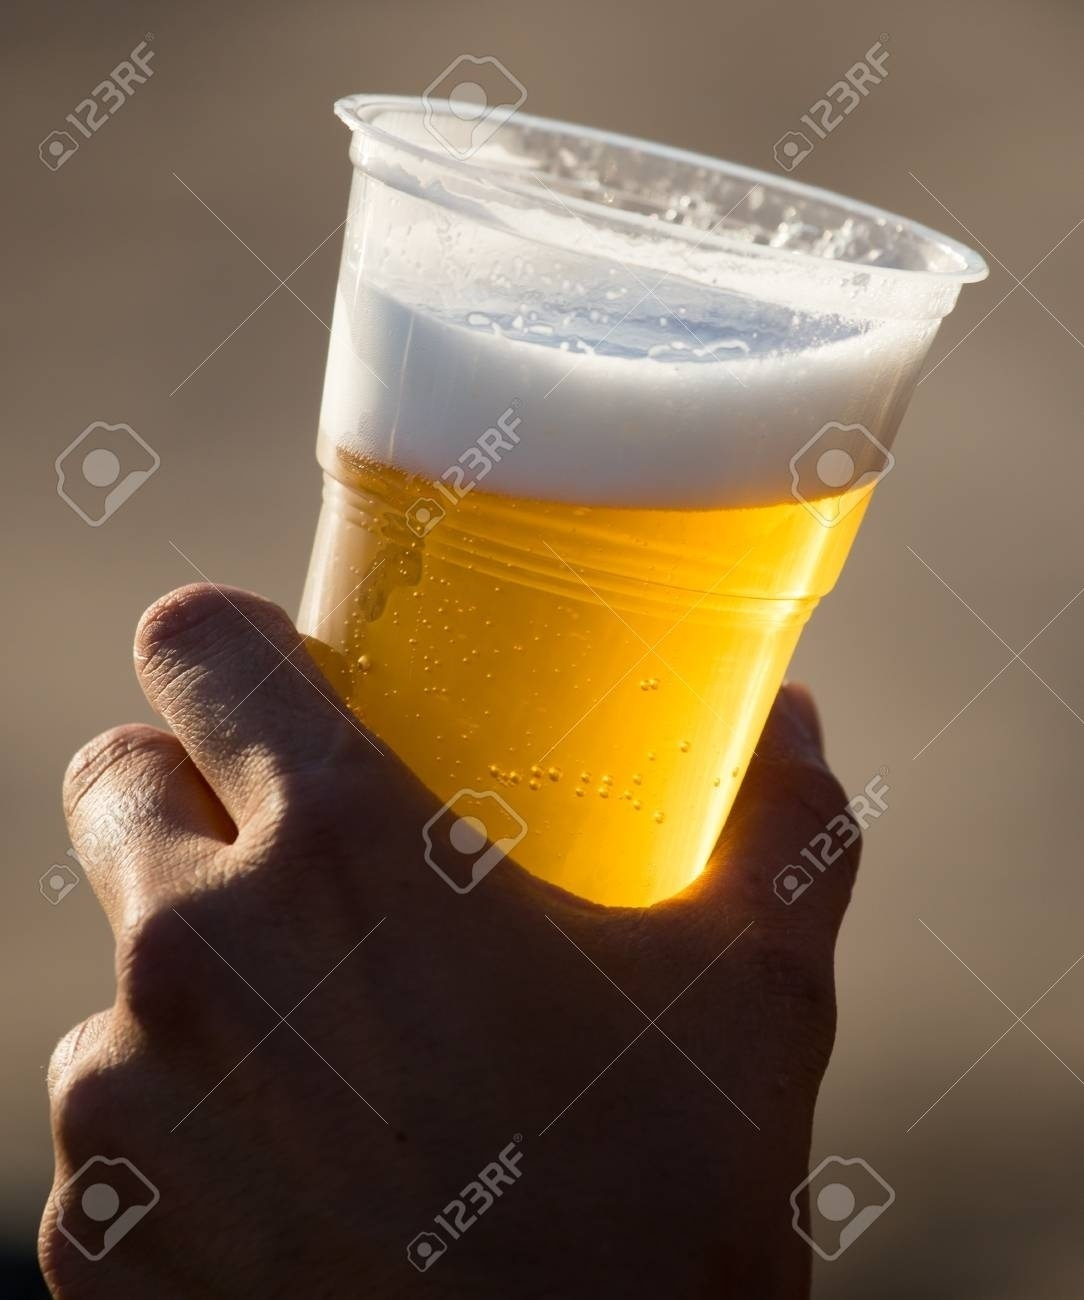whiskey: (263, 89, 935, 1078)
